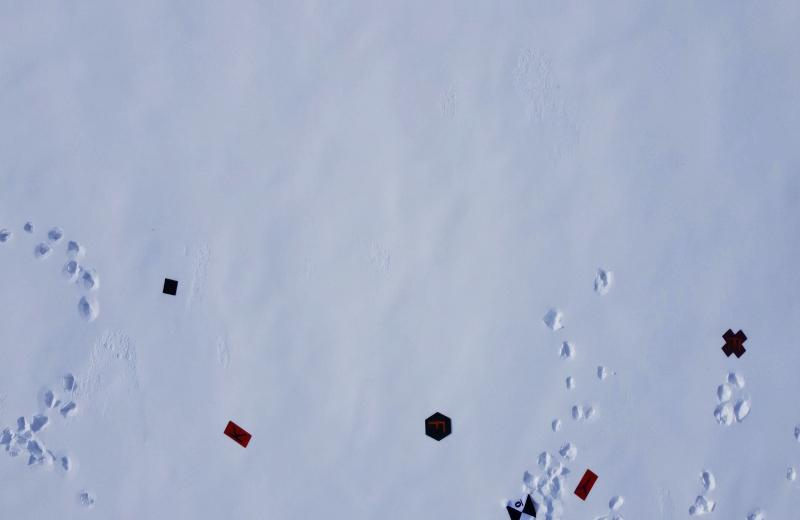Cross: (717, 320, 750, 360)
Hexagon: (420, 406, 454, 444)
Rectangle: (222, 417, 256, 452), (575, 462, 600, 502)
Square: (159, 276, 181, 302)
